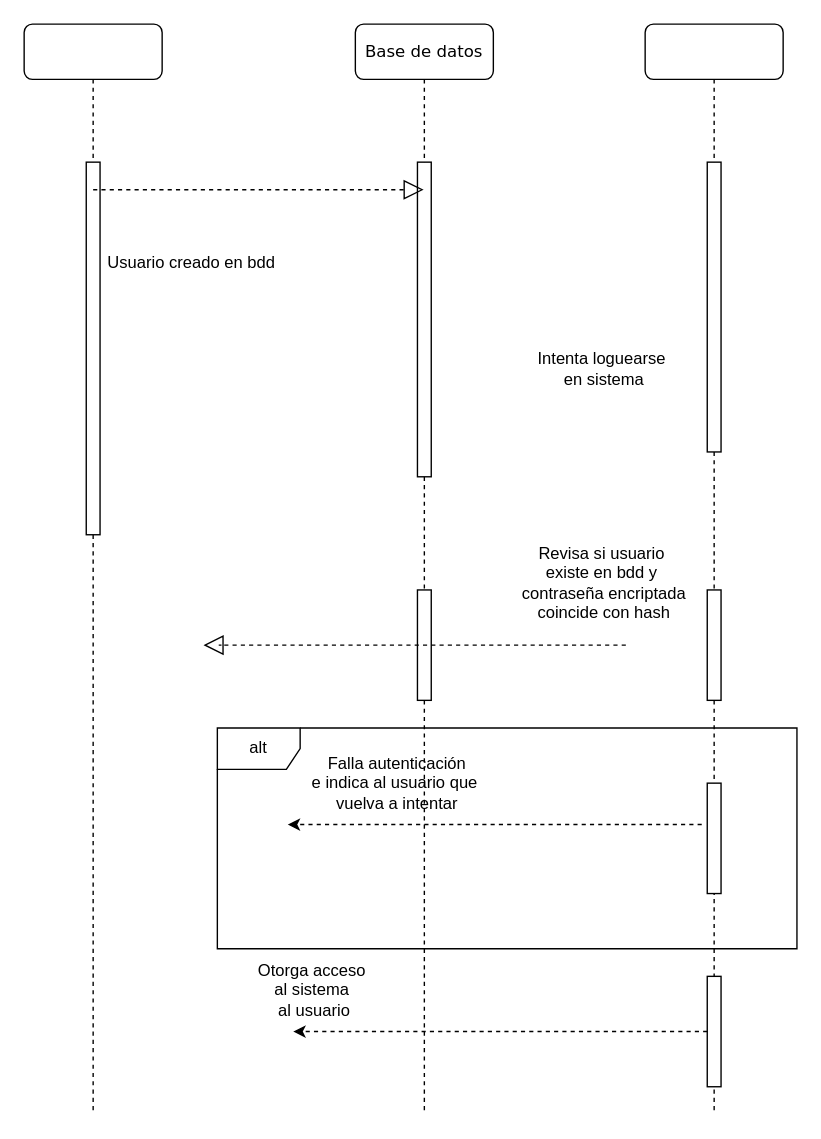
This 821x1139 diagram has some shape labels left out. Here are the shapes that lost their labels. From the top down, the centre of each, then its label:
At (x=92, y=568): "Admin".
At (x=713, y=568): "Controlador de login".
